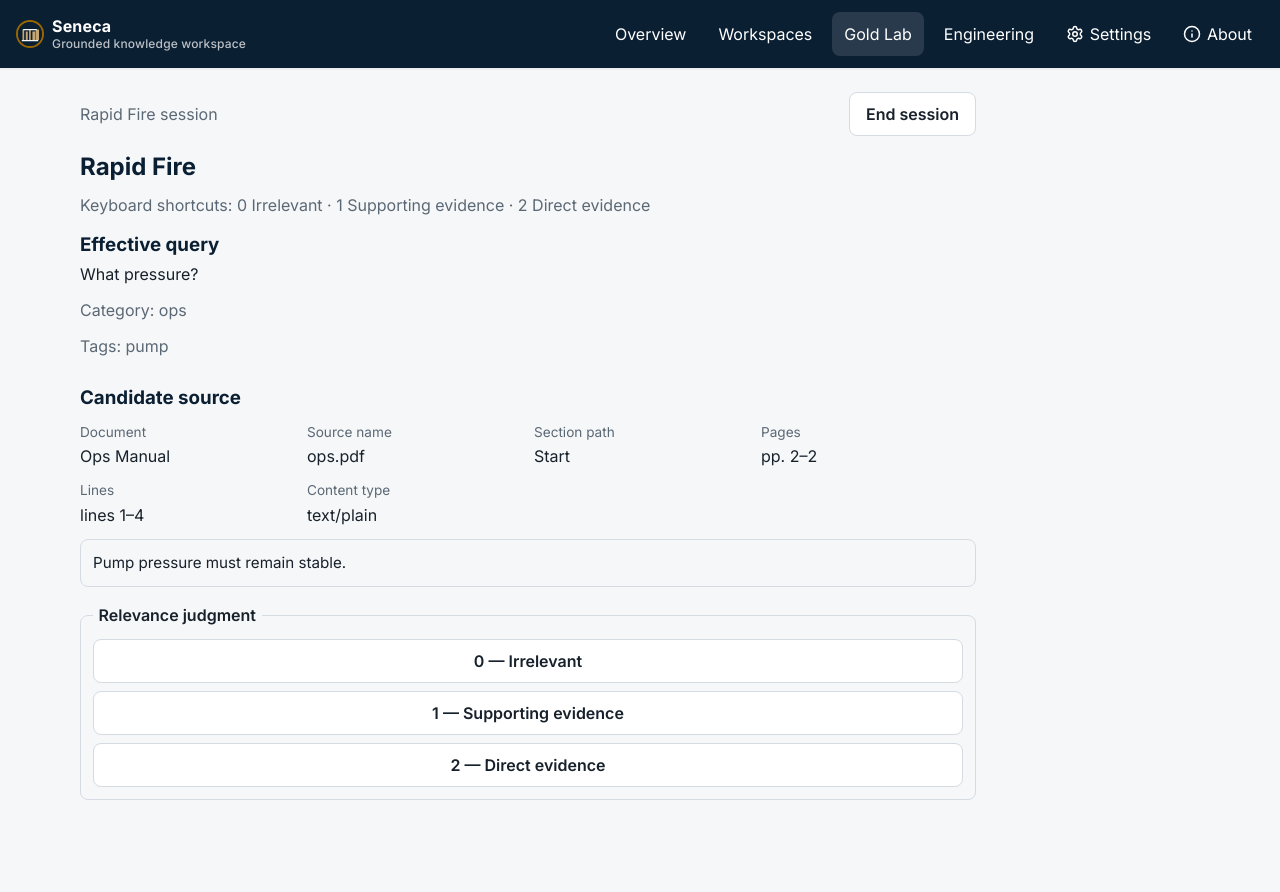
it: 16N-B session exit and completion › B-EXIT-03/04: End session returns to campaign with zero new mutation; committed stays
expect the element with test id "rapid-fire-presentation" is shown: met, box [80,152,976,816]
Click the button "0 — Irrelevant" at (528, 661), box [93,639,963,683]
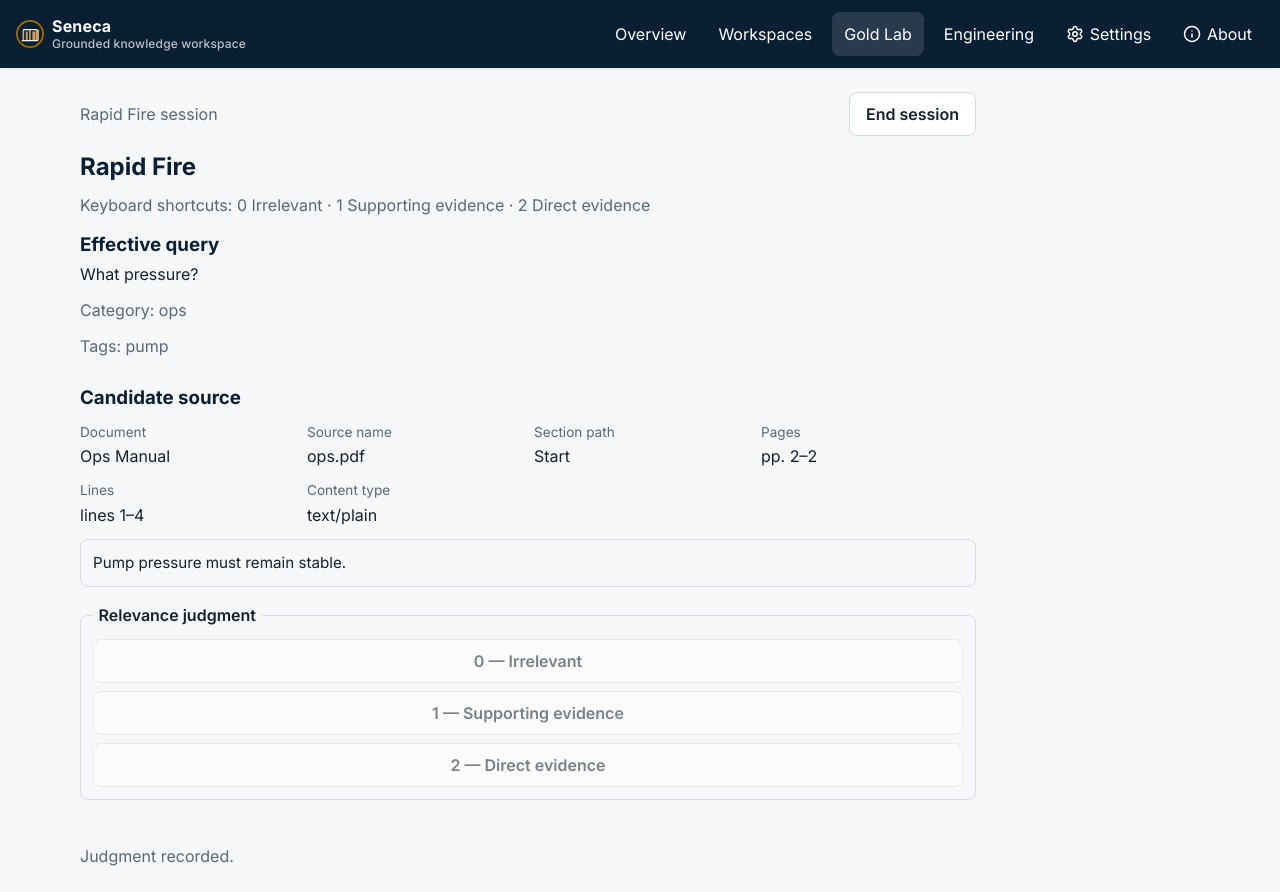
Click the button with test id "end-session" at (912, 114), box [849,92,976,136]
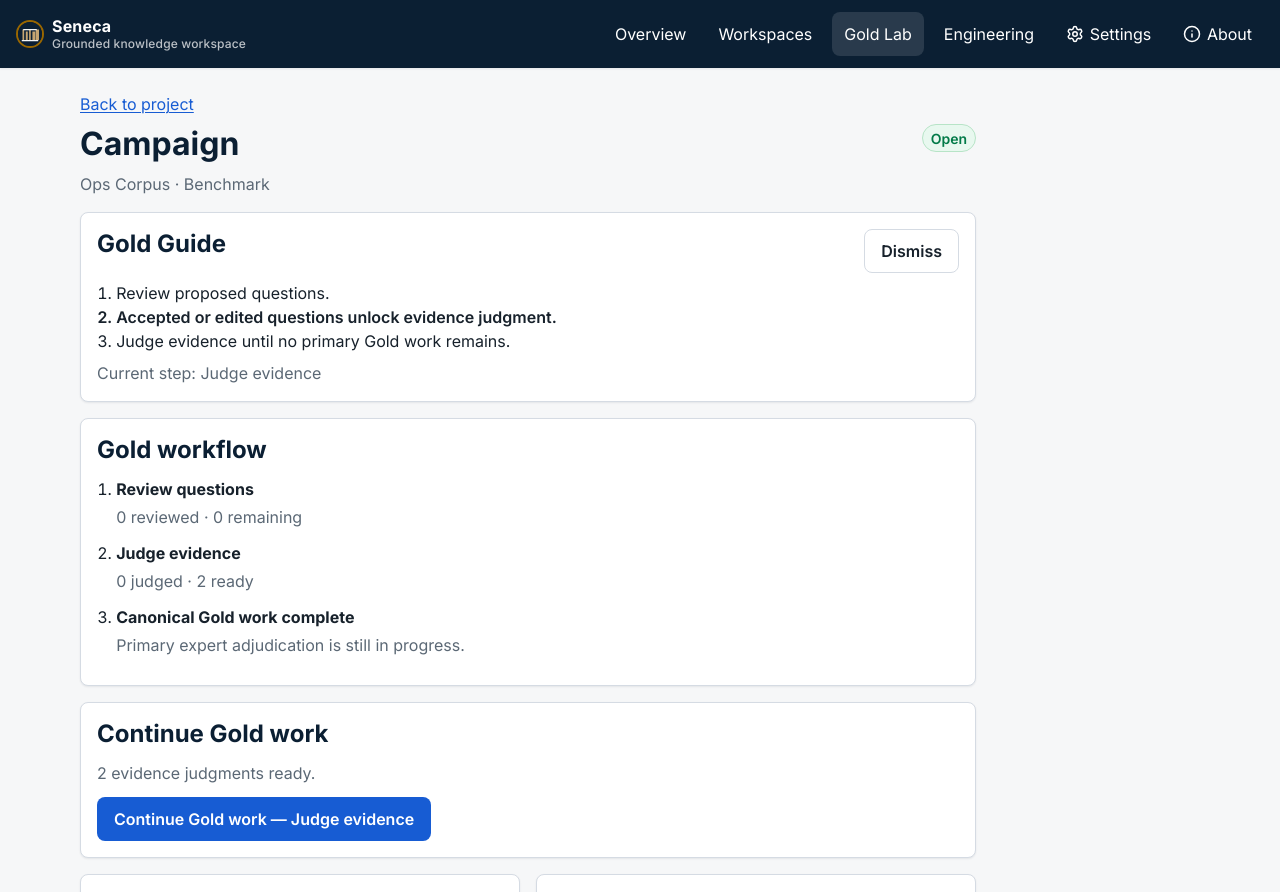
expect the heading "Campaign" is shown: met, box [80,124,239,164]
